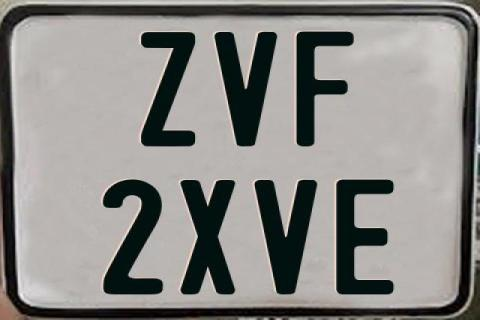0: (102, 178, 163, 298)
E: (334, 177, 398, 293)
F: (296, 31, 354, 150)
V: (251, 179, 316, 295), (212, 31, 274, 149)
X: (179, 177, 235, 297)
Z: (141, 32, 200, 146)
